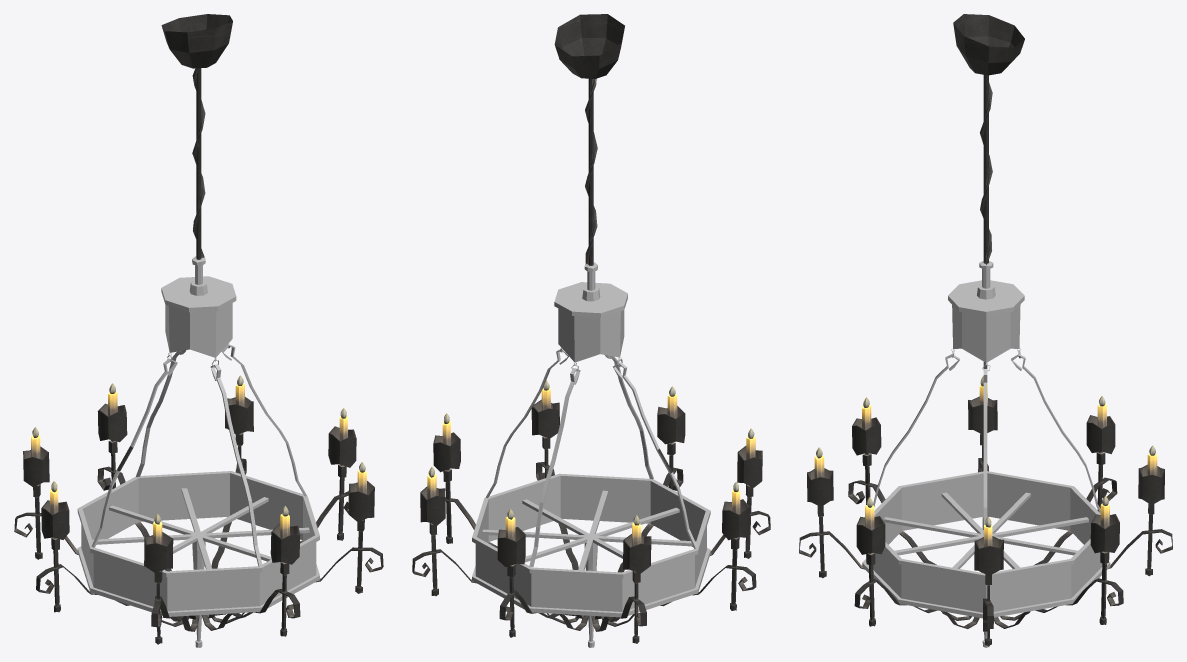
The picture shows the model from 3 angles, left to right: view 1: azimuth 30°, elevation 25°; view 2: azimuth 150°, elevation 25°; view 3: azimuth 270°, elevation 25°; orthographic projection.
Visible parts, largest first — view 1: chandelierFixture (×3), ceilingMount, link01, link02; view 2: chandelierFixture (×3), ceilingMount, link01, link02; view 3: chandelierFixture (×2), ceilingMount, link01, link02.
Part boxes in pixels (box(x1,y1,x2,y2)): chandelierFixture (×3): box(14, 256, 383, 647); ceilingMount: box(161, 14, 232, 68); link01: box(192, 68, 205, 169); link02: box(193, 168, 205, 259); chandelierFixture (×3): box(412, 262, 770, 647); ceilingMount: box(554, 14, 624, 78); link01: box(585, 78, 597, 177); link02: box(585, 176, 597, 265); chandelierFixture (×2): box(799, 261, 1172, 647); ceilingMount: box(953, 14, 1024, 75); link01: box(980, 75, 992, 174); link02: box(980, 169, 992, 264).
Bounding box in the file's own units: 1.09 × 2 × 1.09.
